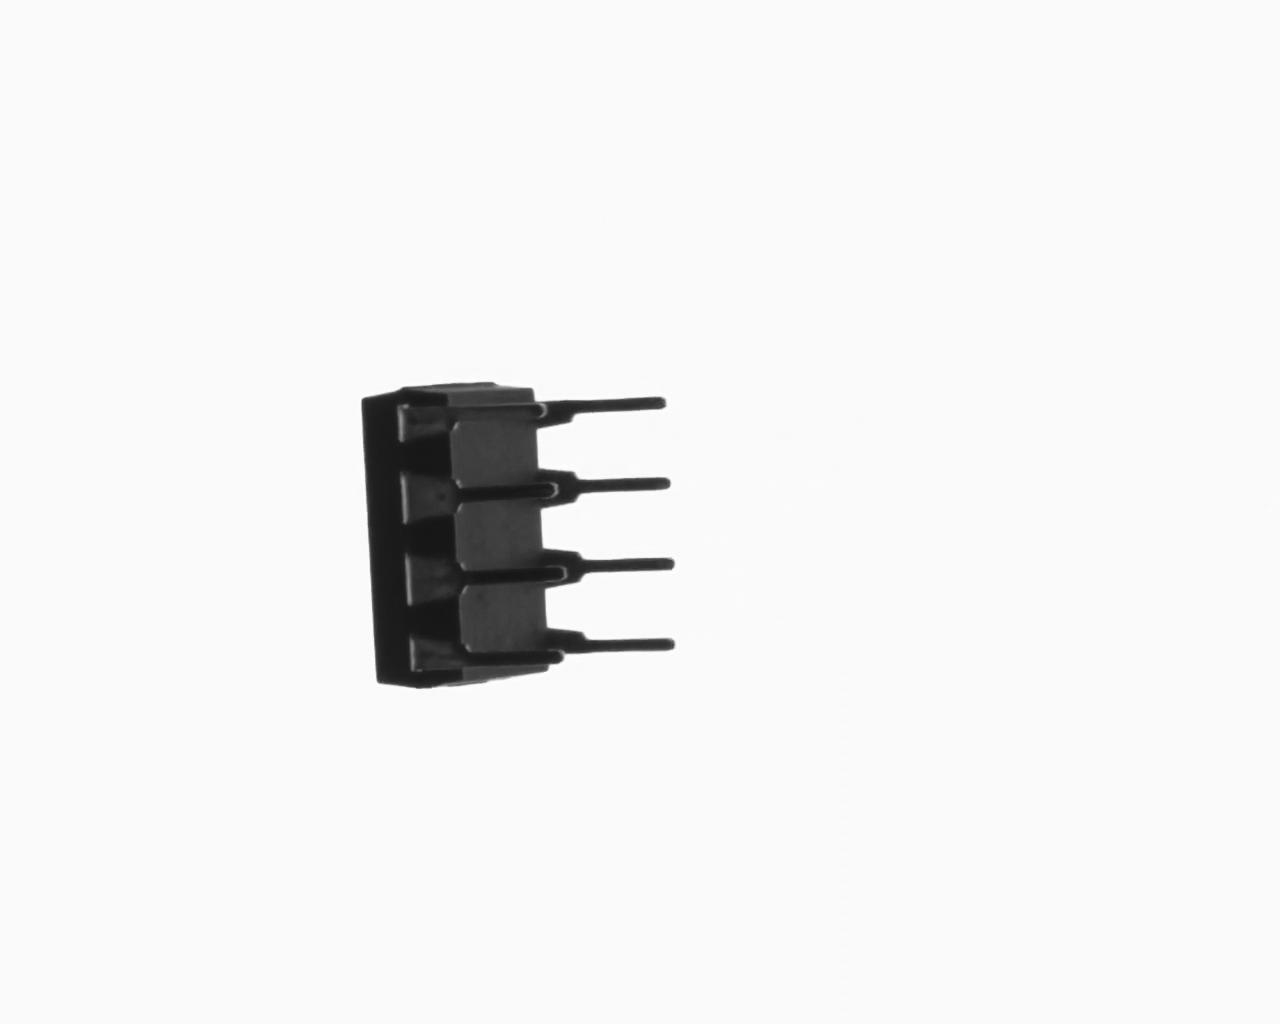Leg: (541, 466, 669, 509), (554, 546, 678, 586), (538, 394, 666, 433), (437, 646, 562, 681), (405, 401, 551, 427), (559, 627, 676, 656), (440, 563, 568, 586), (443, 483, 559, 507)
